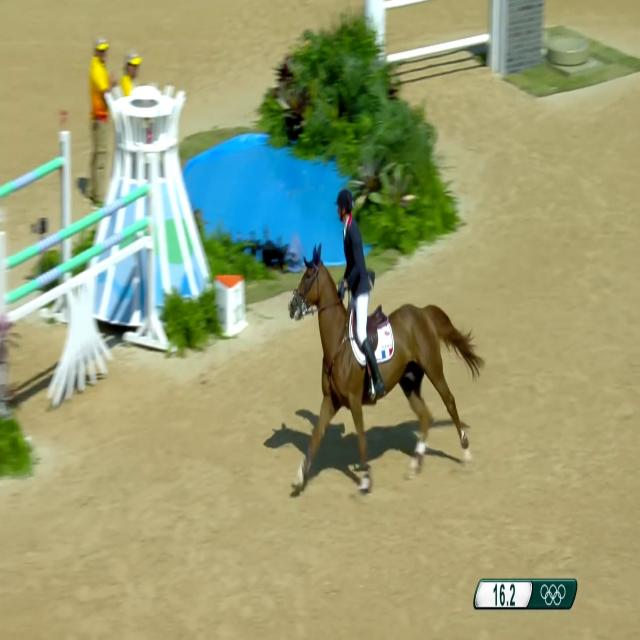Horse Rider: (325, 162, 389, 410)
Horse Running: (275, 240, 492, 512)
